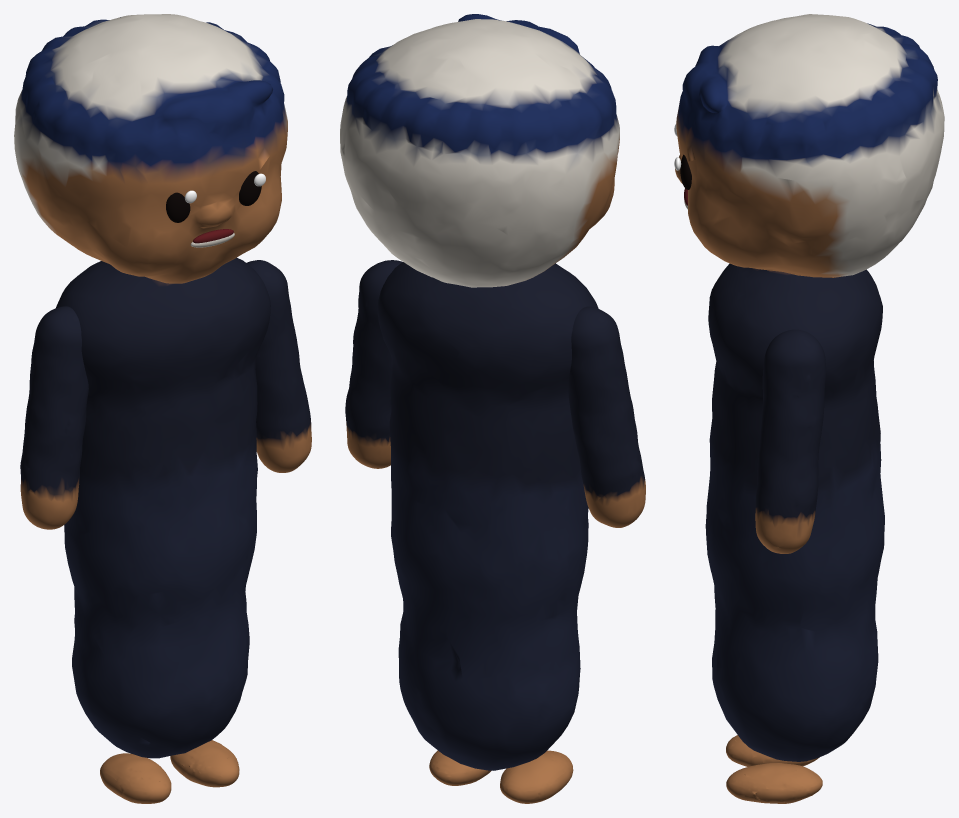
File: aki.glb
The picture shows the model from 3 angles, left to right: view 1: azimuth 30°, elevation 25°; view 2: azimuth 150°, elevation 25°; view 3: azimuth 270°, elevation 25°; orthographic projection. The views are drawn at different scales.
Parts seen in each view (by area): view 1: Body, Head, ArmL, ArmR, LegL, LegR, eye; view 2: Body, Head, ArmL, ArmR, LegL, LegR; view 3: Body, Head, ArmR, LegR, LegL.
Part boxes in pixels (x1,y1,x2,y2): Body: (56,257,270,758); Head: (14,14,287,283); ArmL: (20,306,88,529); ArmR: (246,260,311,472); LegL: (100,753,171,803); LegR: (170,740,239,787); eye: (166,192,190,222); Body: (377,262,598,770); Head: (340,14,619,287); ArmL: (568,306,645,527); ArmR: (345,260,402,468); LegL: (500,750,573,803); LegR: (429,750,491,785); Body: (705,263,884,761); Head: (675,14,944,277); ArmR: (755,329,826,553); LegR: (726,763,822,803); LegL: (726,735,819,766).
Bounding box in the file's own units: 0.821 × 2.06 × 0.6706.
